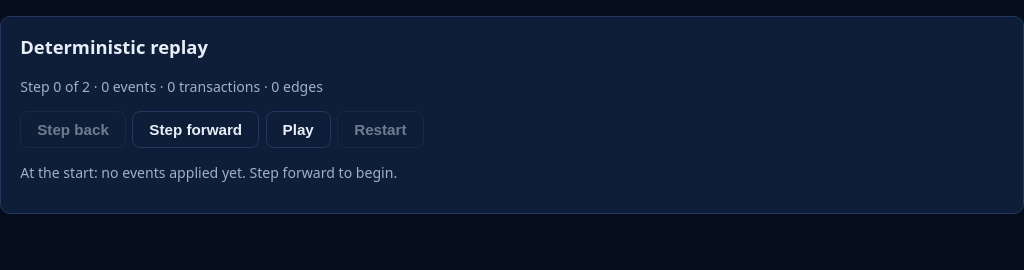
ReplayControls › starts at step 0 and steps forward through server states
Check: the text with test id "replay-position" shows "Step 0 of 2", box [20, 77, 323, 96]
Check: the text "At the start: no events applied yet. Step forward to begin." is shown, box [20, 163, 397, 182]
Click the button "Step forward": (196, 129) [132, 111, 259, 148]
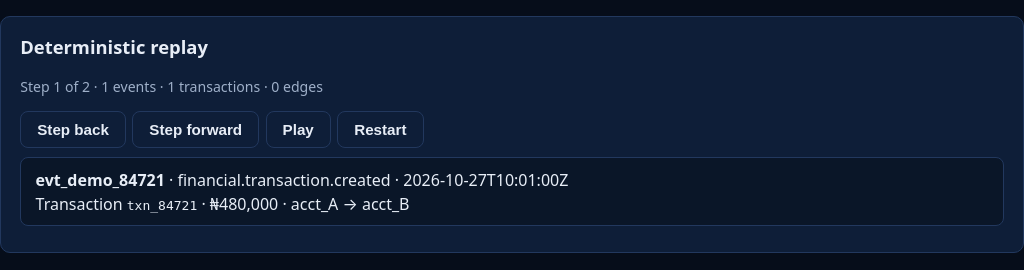
Check: the text with test id "replay-position" shows "Step 1 of 2", box [20, 77, 323, 96]
Check: the element with test id "replay-current" shows "evt_demo_84721", box [36, 169, 165, 191]
